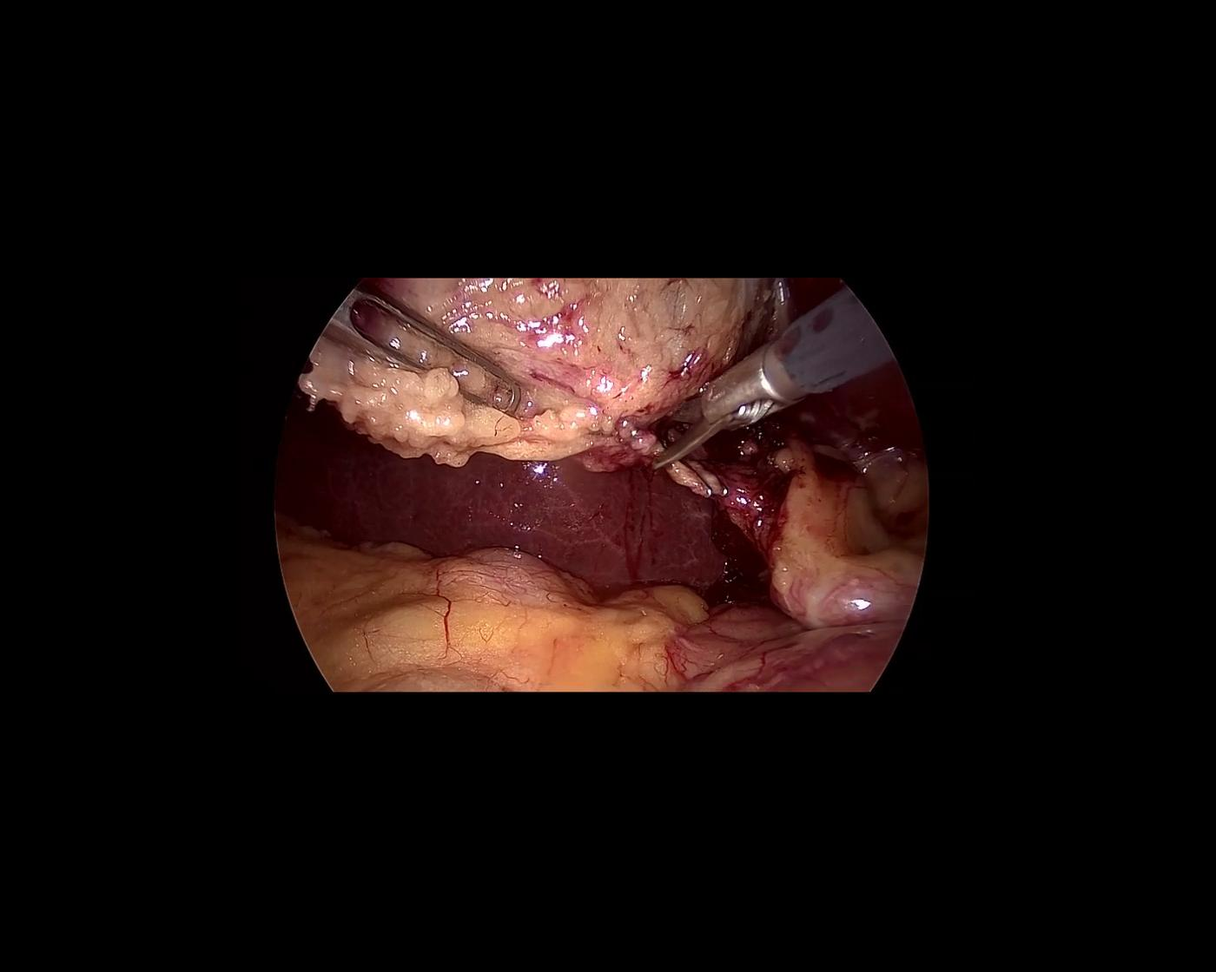Forceps: (322, 276, 545, 447)
Gallbladder: (300, 276, 769, 465)
Liver: (270, 400, 781, 628), (763, 278, 921, 448)
